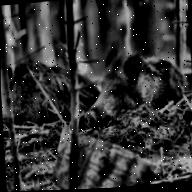boar: (78, 40, 189, 129), (6, 54, 101, 130)
